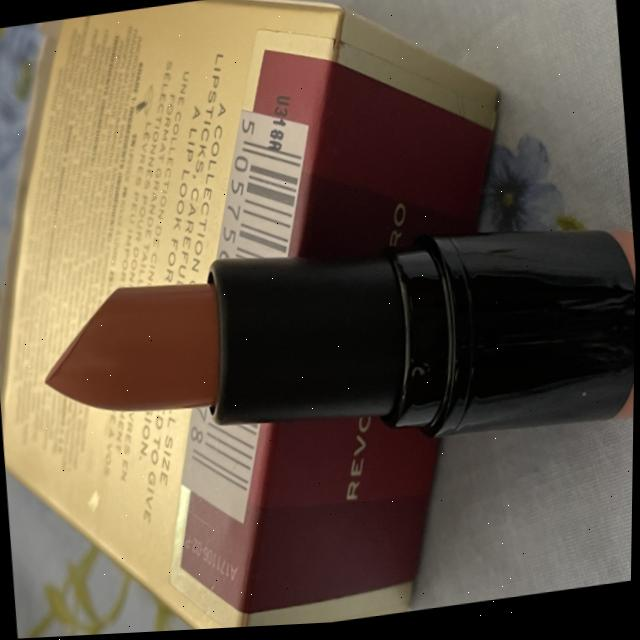lip stick: (10, 193, 637, 521)
